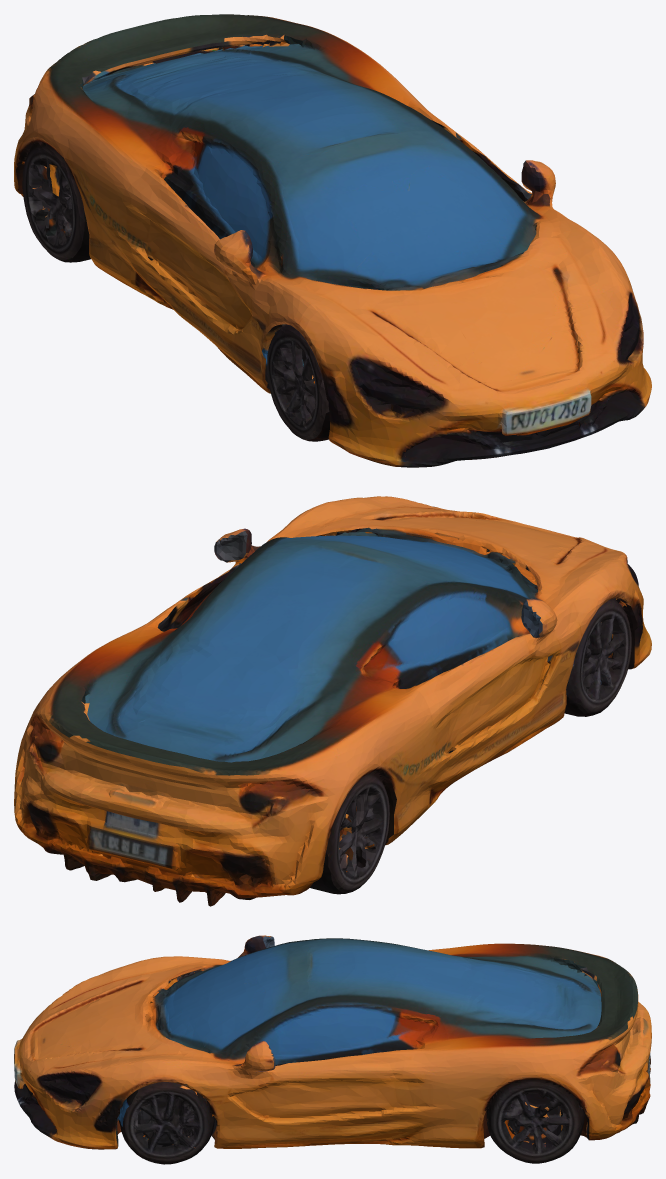
File: woking.glb
The picture shows the model from 3 angles, top to bottom: view 1: azimuth 30°, elevation 25°; view 2: azimuth 150°, elevation 25°; view 3: azimuth 270°, elevation 25°; orthographic projection. The views are drawn at different scales.
Visible parts, largest first — view 1: rk_woking_1790347420.obj; view 2: rk_woking_1790347420.obj; view 3: rk_woking_1790347420.obj.
Boxes of the visible parts, box(x1,y1,x2,y2) form: rk_woking_1790347420.obj: box(14, 14, 651, 467); rk_woking_1790347420.obj: box(14, 496, 651, 906); rk_woking_1790347420.obj: box(14, 935, 651, 1164).
Bounding box in the file's own units: 0.8959 × 0.4968 × 1.96.
Materials: 1 (1 with a texture image).
